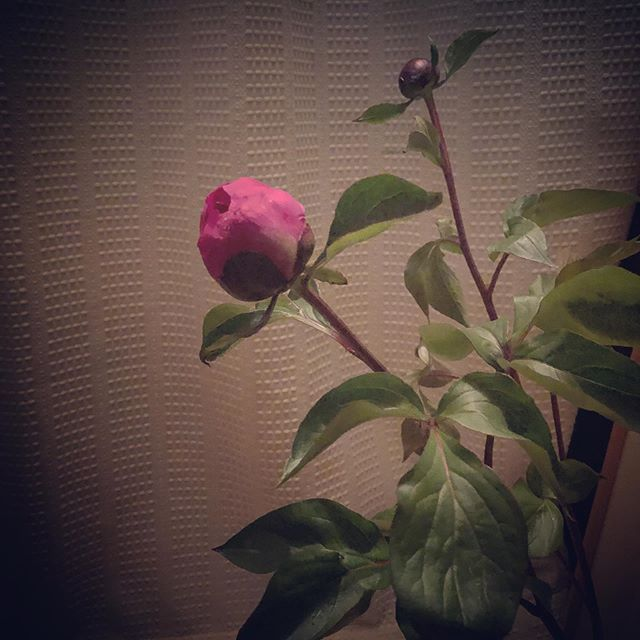flowers: (119, 61, 607, 640)
